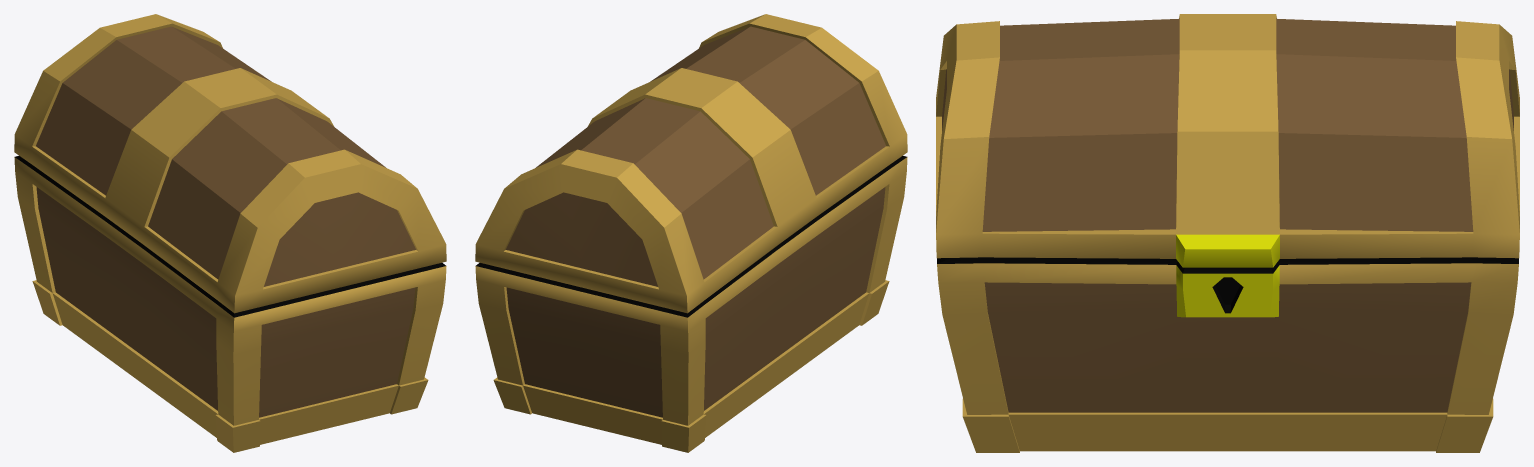
Rendered from Chest.fbx.
3 renders of one model, left to right at view 1: azimuth 30°, elevation 25°; view 2: azimuth 150°, elevation 25°; view 3: azimuth 270°, elevation 25°, orthographic. The views are drawn at different scales.
Visible parts, largest first — view 1: Chest; view 2: Chest; view 3: Chest.
Part boxes in pixels (left/top/right/bottom): Chest: left=14, top=14, right=446, bottom=452; Chest: left=475, top=14, right=907, bottom=452; Chest: left=936, top=14, right=1519, bottom=452.
Size of the model in its own units: 22.08 by 25.22 by 36.92.
